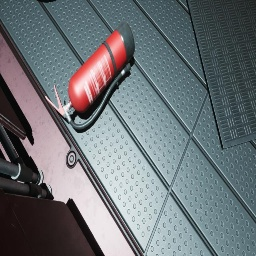FireExtinguisher ]: (45, 21, 135, 130)
